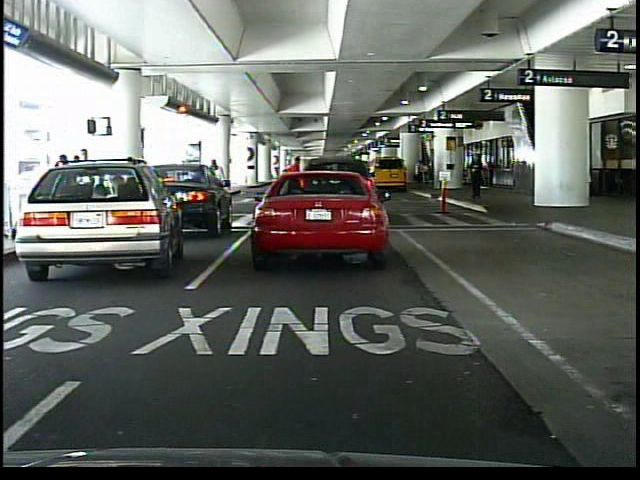person: (81, 147, 100, 222), (207, 157, 228, 213), (285, 154, 303, 208), (467, 154, 486, 201), (413, 155, 426, 191)
